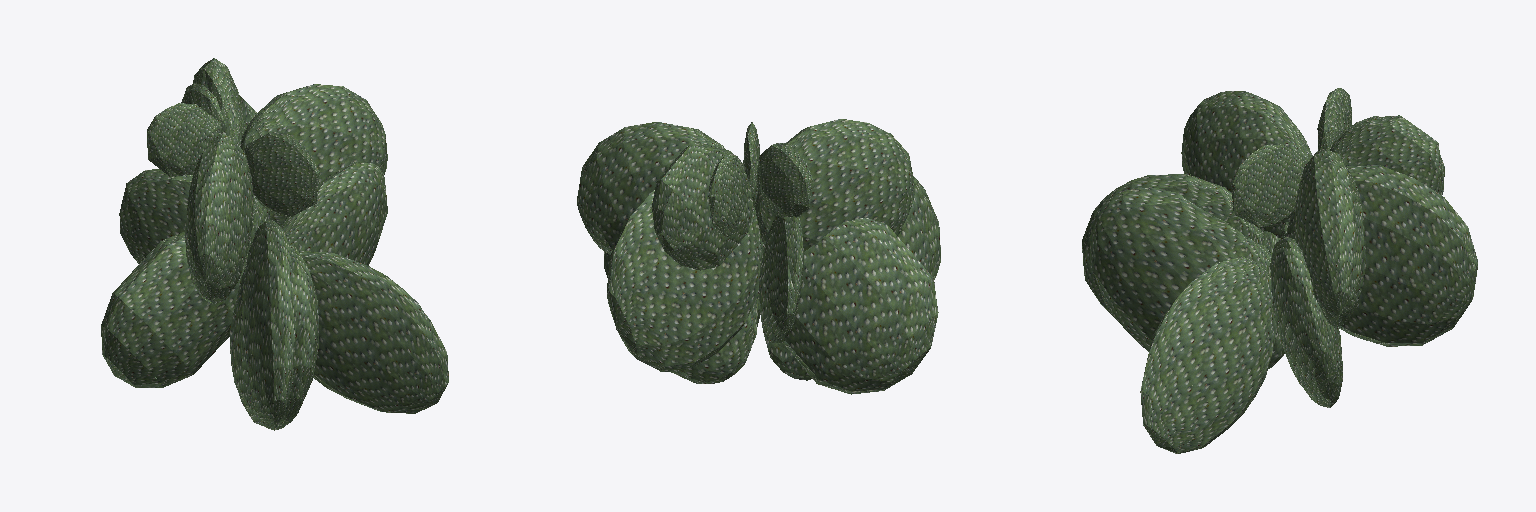
3 views of the same model, side by side, from view 1: azimuth 30°, elevation 25°; view 2: azimuth 150°, elevation 25°; view 3: azimuth 270°, elevation 25° (orthographic).
Visible parts, largest first — view 1: Foliage; view 2: Foliage; view 3: Foliage.
Boxes of the visible parts, <box> form: Foliage: <box>101,58,448,430</box>; Foliage: <box>577,119,940,394</box>; Foliage: <box>1082,88,1477,453</box>.
Bounding box in the file's own units: 0.84 × 0.75 × 0.902.
1 materials, 1 textured.